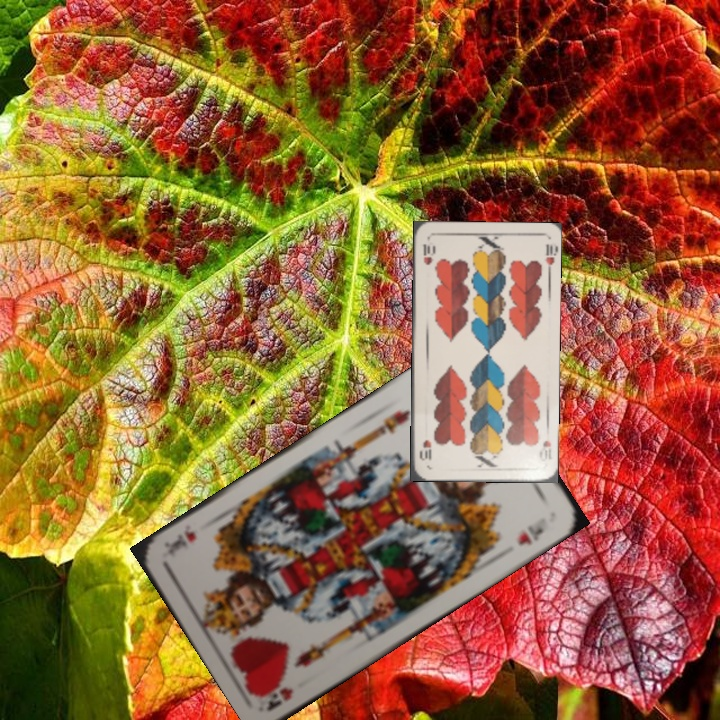H10: (535, 436, 554, 464), (419, 240, 436, 268)
HK: (257, 681, 296, 714)
